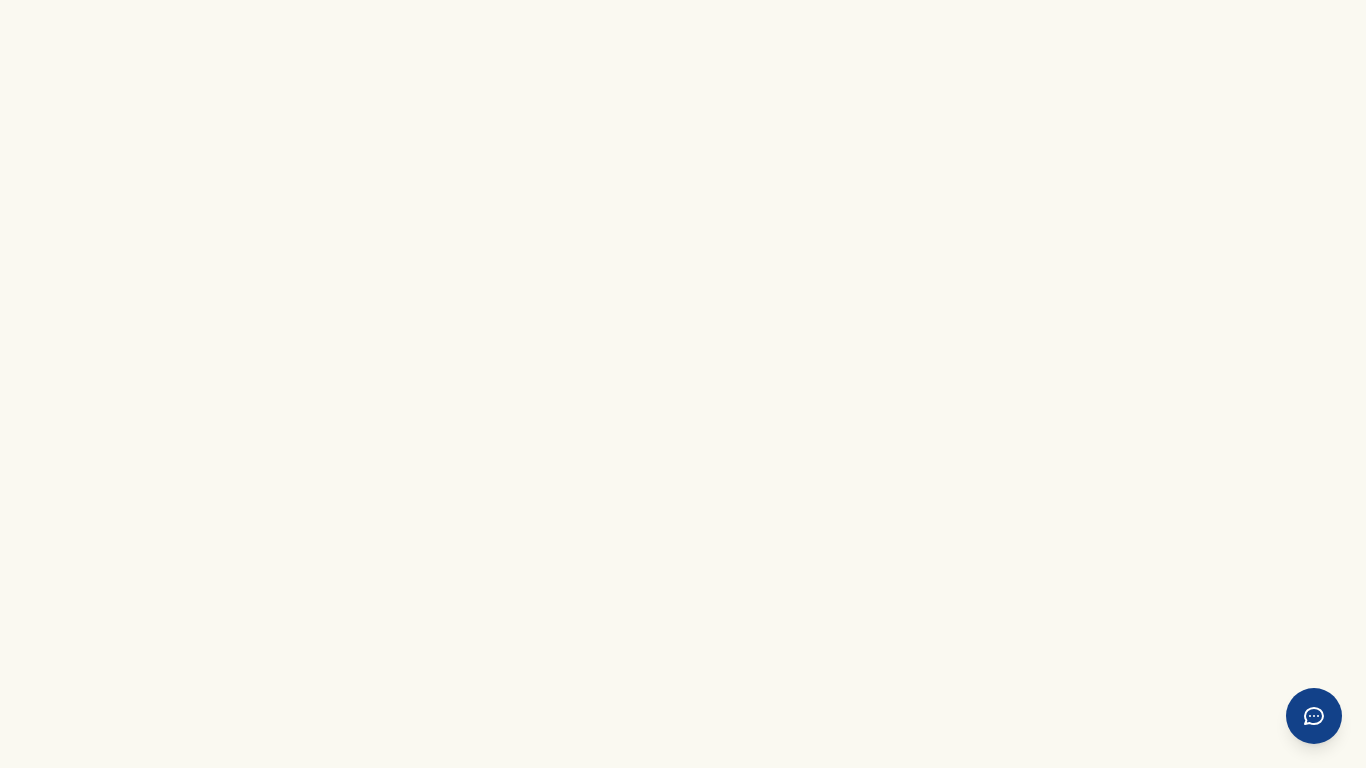
it: ConciergeChat › renders error state when streamChat calls onError
Step 1. Click the button named "open concierge" → (1314,716), box 1286,688 -> 1342,744
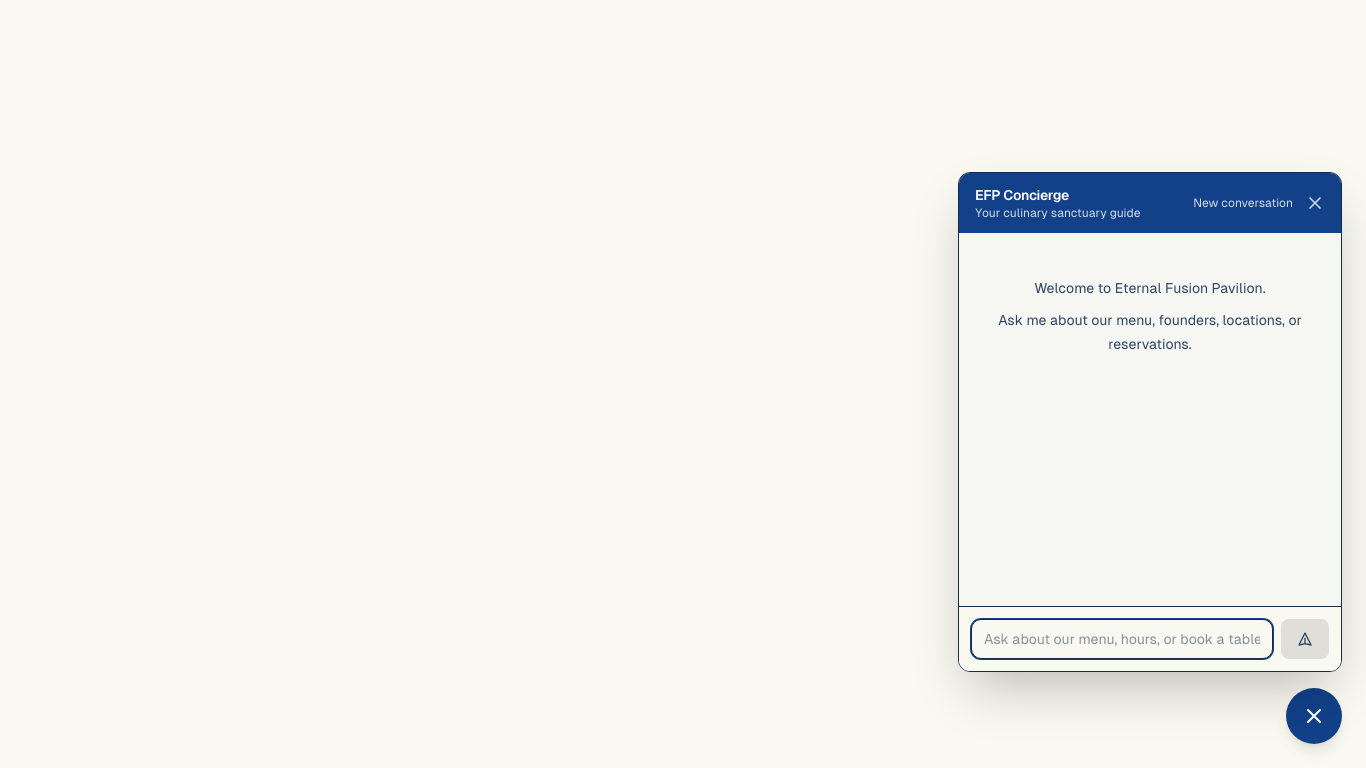
Step 2. Type "test" into the field named "type your message" → (1122,639), box 971,619 -> 1273,659
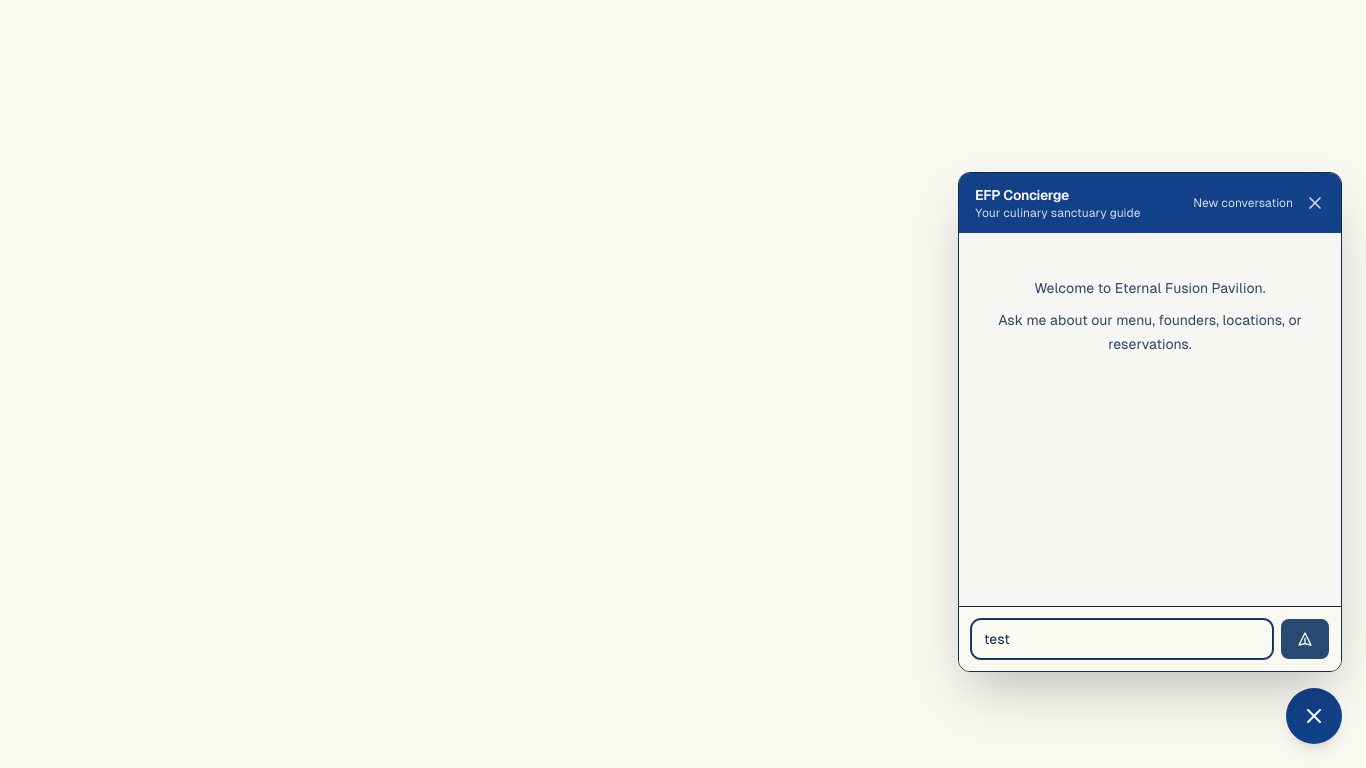
Step 3. Press Enter in the field named "type your message", box 971,619 -> 1273,659
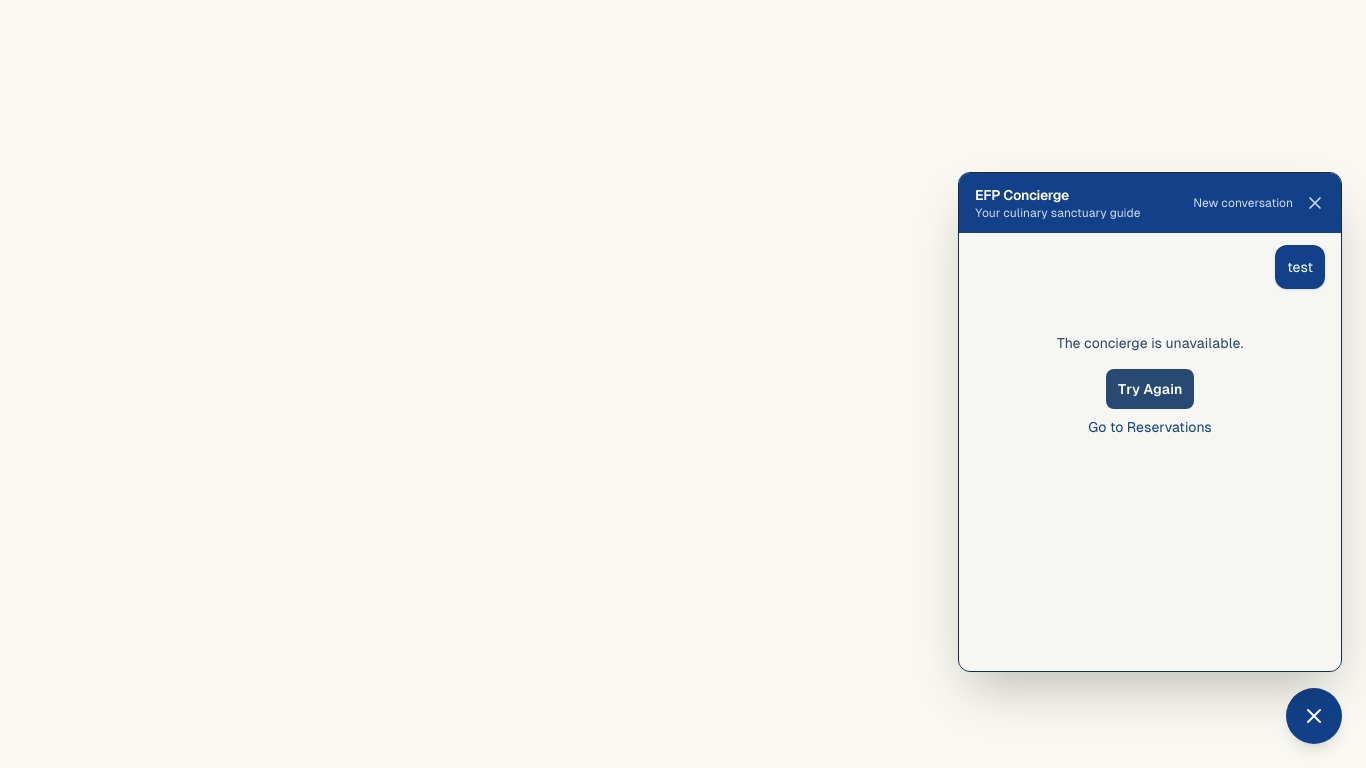
Now the text "The concierge is unavailable." is shown, box 1057,335 -> 1243,351
Now the link "Go to Reservations" is shown, box 1088,417 -> 1212,437
